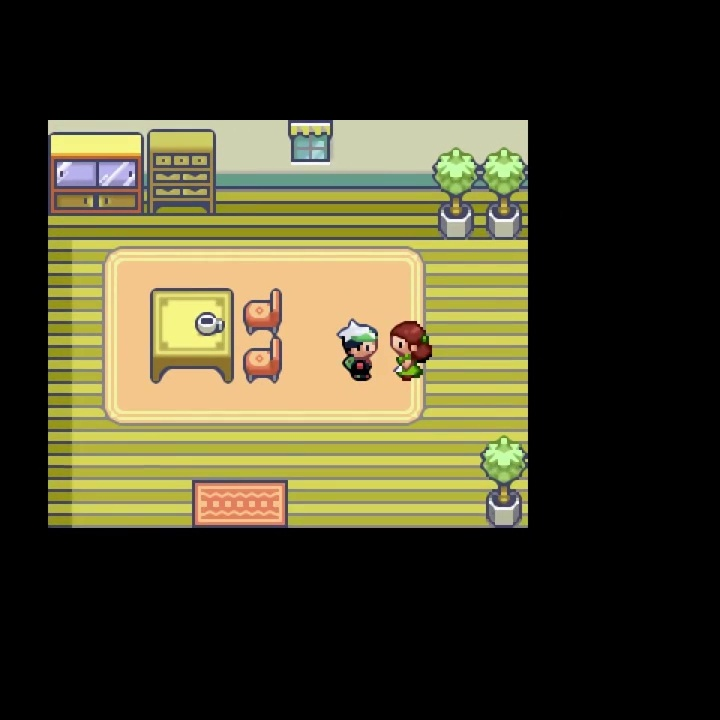agent: (333, 317, 382, 385)
exit: (189, 476, 291, 586)
npc: (388, 318, 435, 386)
